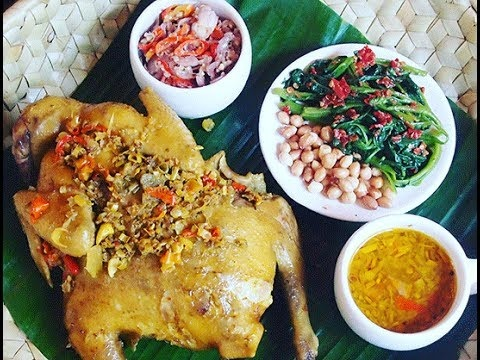ayam_betutu: (11, 96, 318, 360)
